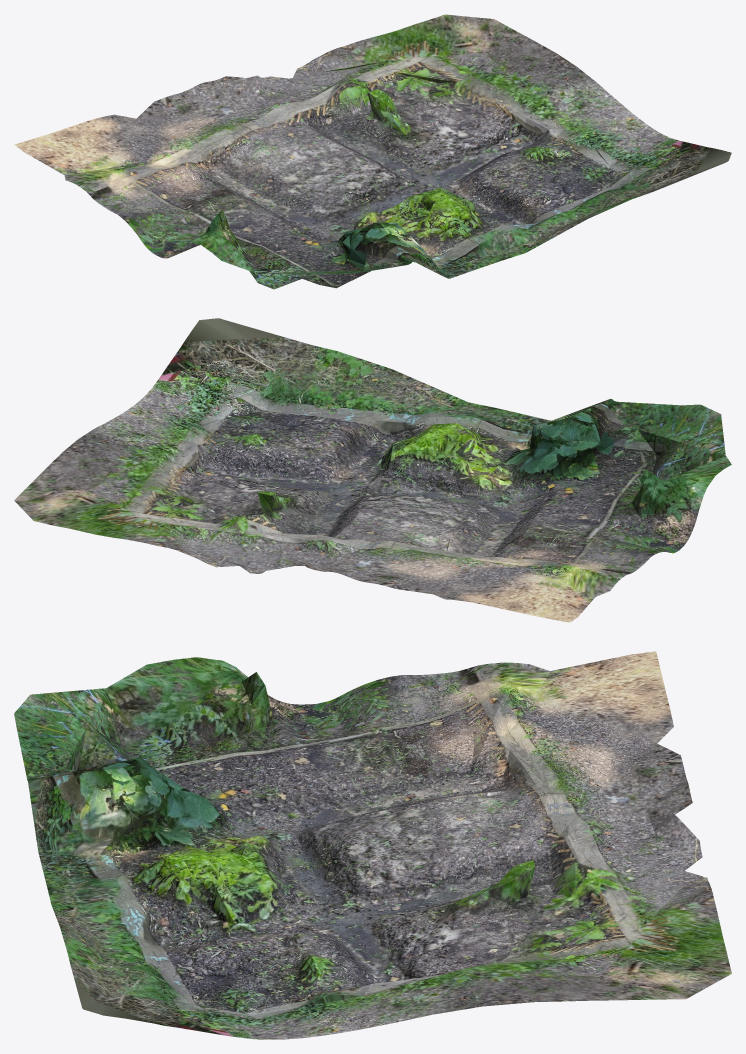
File: garden_939faces.glb
3 renders of one model, top to bottom at view 1: azimuth 30°, elevation 25°; view 2: azimuth 150°, elevation 25°; view 3: azimuth 270°, elevation 25°, orthographic. The views are drawn at different scales.
Size of the model in its own units: 39.44 by 4.53 by 32.34.
Materials: 1 (1 with a texture image).
